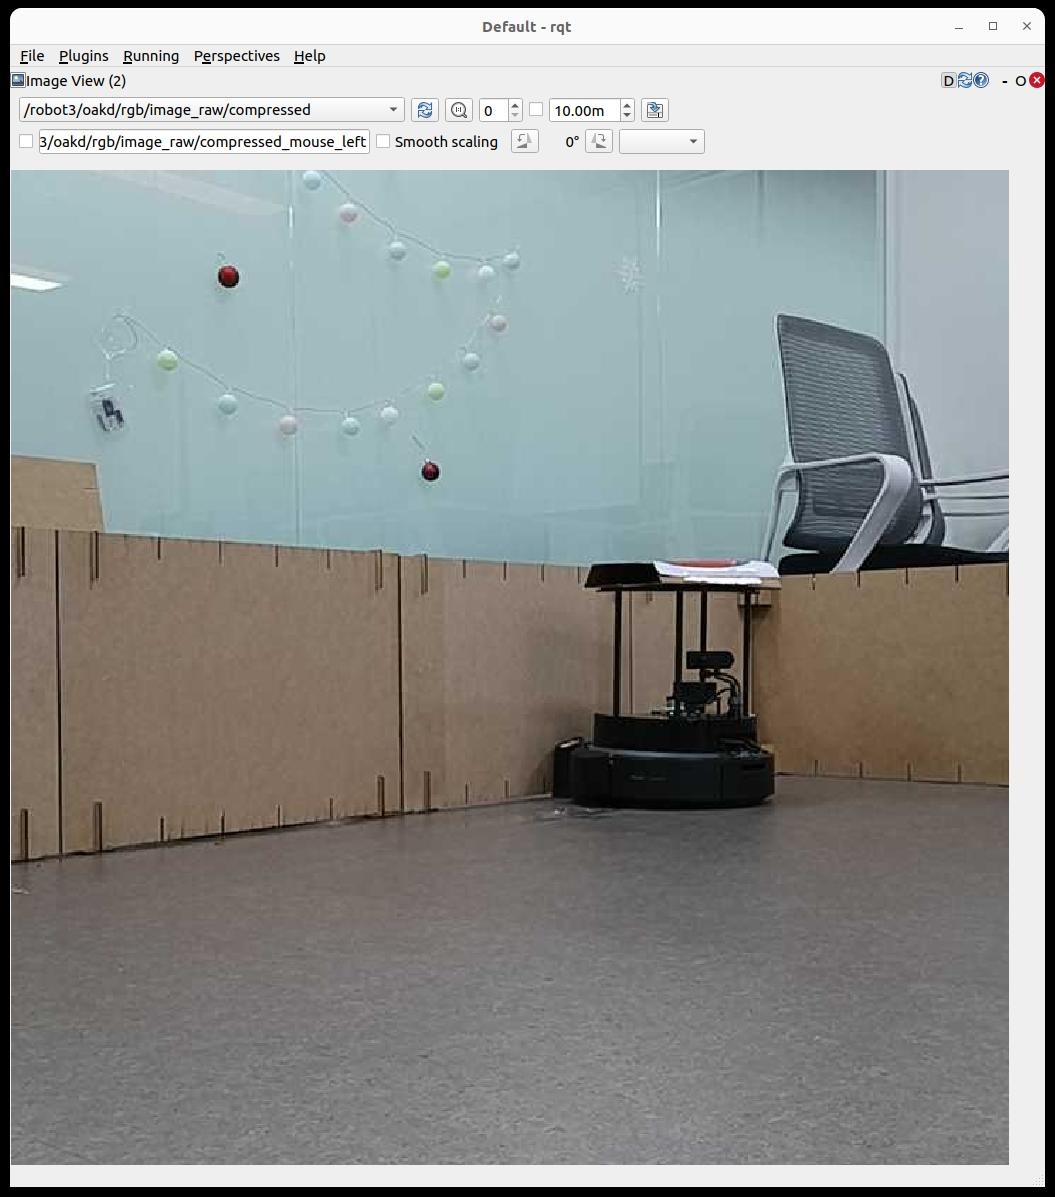AED: (585, 560, 777, 588)
Robot: (554, 581, 774, 808)
